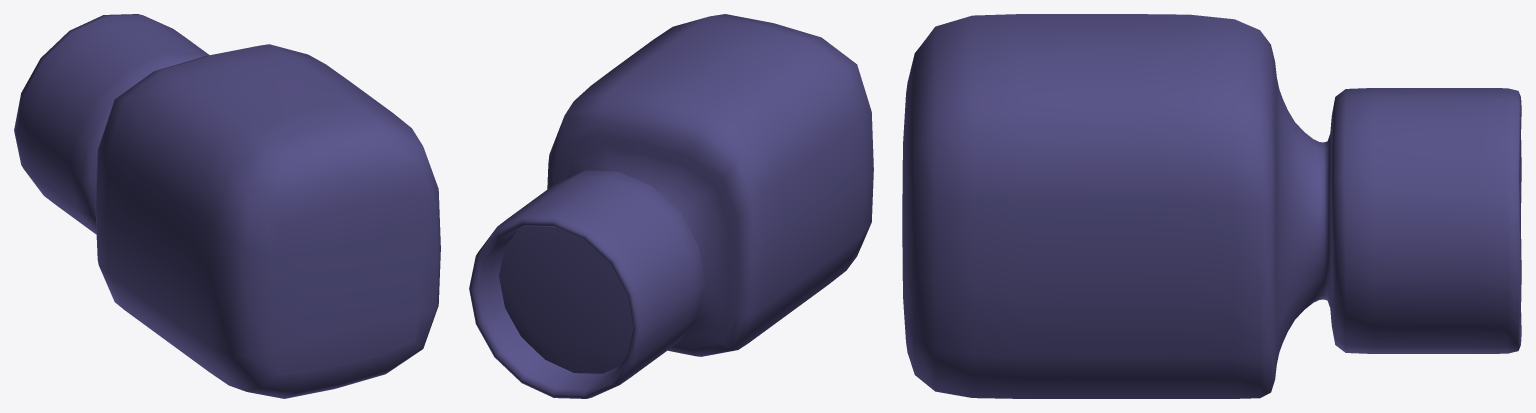
Rendered from camera.glb.
3 views of the same model, side by side, from view 1: azimuth 30°, elevation 25°; view 2: azimuth 150°, elevation 25°; view 3: azimuth 270°, elevation 25° (orthographic). The views are drawn at different scales.
Parts seen in each view (by area): view 1: Camera; view 2: Camera; view 3: Camera.
Boxes of the visible parts, left/top/right/bottom form: Camera: left=14, top=14, right=440, bottom=398; Camera: left=469, top=14, right=873, bottom=398; Camera: left=902, top=14, right=1521, bottom=398.
Bounding box in the file's own units: 0.2 × 0.2223 × 0.3853.
